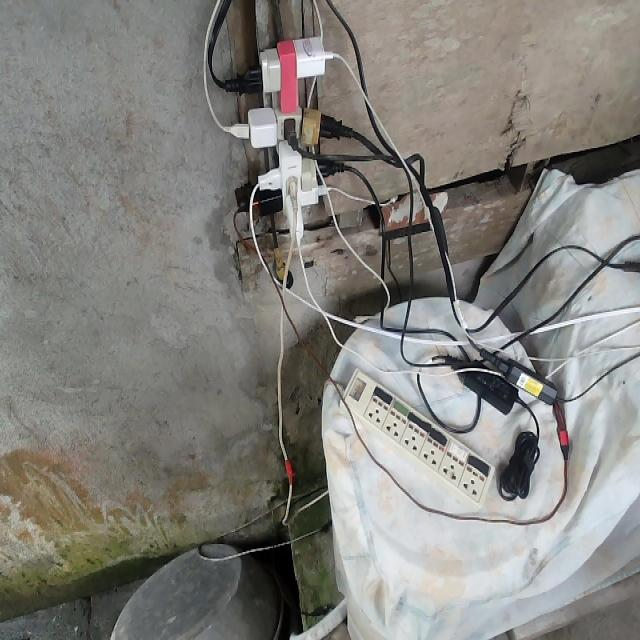-: (199, 14, 376, 270)
